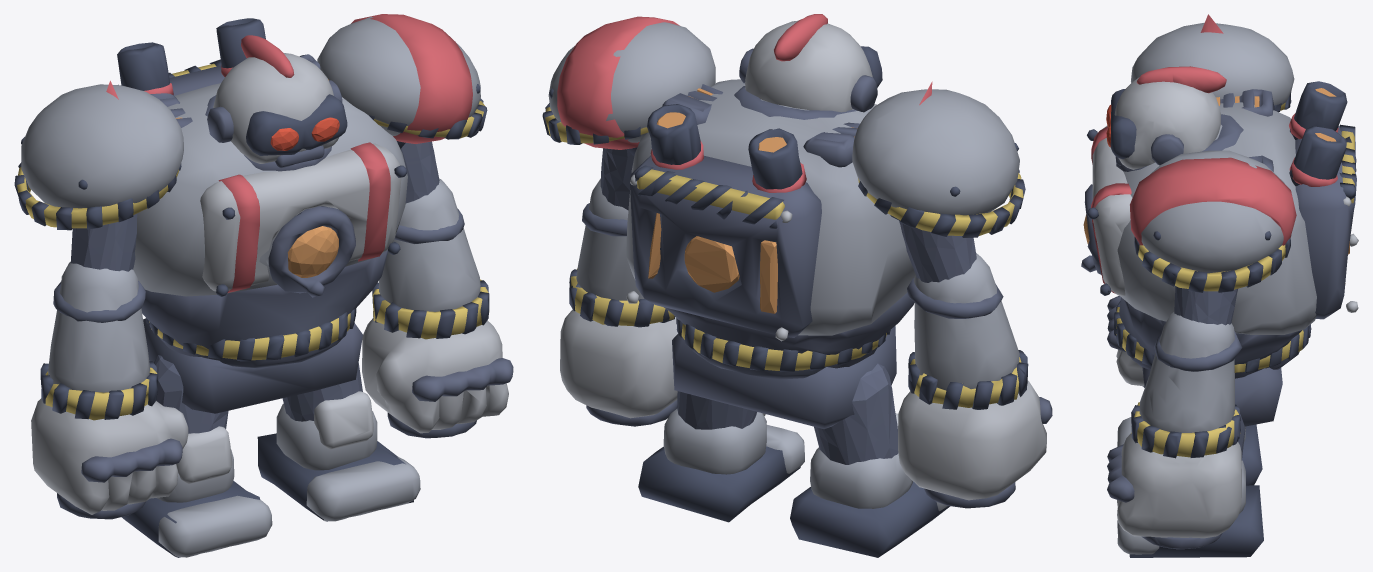
The model's file is brute.glb.
The picture shows the model from 3 angles, left to right: view 1: azimuth 30°, elevation 25°; view 2: azimuth 150°, elevation 25°; view 3: azimuth 270°, elevation 25°; orthographic projection. The views are drawn at different scales.
Visible parts, largest first — view 1: torso, fore_r, fore_l, pad_r, pad_l, shin_l, head, shin_r, arm_r, leg_r, core_glow, arm_l (+2 smaller); view 2: torso, fore_r, pad_r, fore_l, pad_l, shin_l, shin_r, head, leg_r, back_glow, arm_r, leg_l (+1 smaller); view 3: torso, fore_l, pad_l, head, pad_r, shin_l, arm_l, shin_r, fore_r, back_glow.
Boxes of the visible parts, box(x1,y1,x2,y2) form: torso: box(117, 18, 407, 413); fore_r: box(31, 261, 188, 519); fore_l: box(362, 178, 513, 438); pad_r: box(14, 80, 183, 230); pad_l: box(317, 14, 487, 143); shin_l: box(257, 391, 420, 521); head: box(207, 35, 347, 168); shin_r: box(121, 426, 272, 557); arm_r: box(70, 213, 137, 271); leg_r: box(154, 355, 228, 433); core_glow: box(287, 226, 338, 277); arm_l: box(400, 141, 439, 203); torso: box(626, 79, 915, 429); fore_r: box(898, 253, 1052, 508); pad_r: box(852, 81, 1025, 237); fore_l: box(560, 178, 677, 426); pad_l: box(542, 16, 715, 149); shin_l: box(638, 409, 804, 522); shin_r: box(790, 413, 949, 557); head: box(739, 14, 882, 112); leg_r: box(814, 363, 898, 464); back_glow: box(648, 88, 857, 313); arm_r: box(899, 220, 976, 282); leg_l: box(677, 391, 756, 429); torso: box(1081, 81, 1358, 426); fore_l: box(1107, 312, 1242, 549); pad_l: box(1130, 150, 1296, 292); head: box(1110, 66, 1226, 169); pad_r: box(1131, 14, 1294, 112); shin_l: box(1117, 460, 1263, 557); arm_l: box(1174, 286, 1237, 325); shin_r: box(1117, 417, 1262, 485); fore_r: box(1107, 295, 1144, 387); back_glow: box(1216, 88, 1349, 283).
Bounding box in the file's own units: 1.72 × 1.73 × 0.9902.
